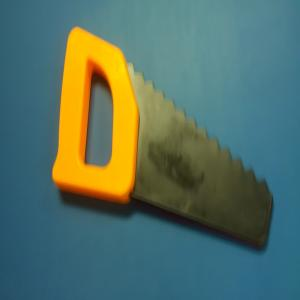serrote: (51, 25, 275, 250)
